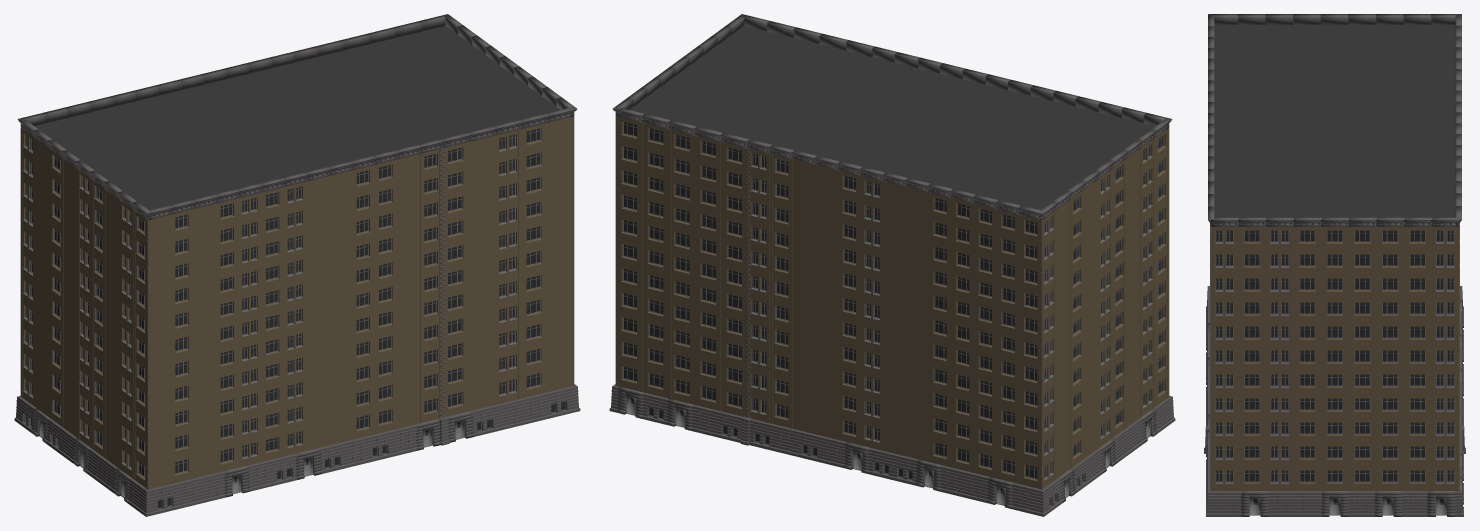
File: building04.fbx
3 renders of one model, left to right at view 1: azimuth 30°, elevation 25°; view 2: azimuth 150°, elevation 25°; view 3: azimuth 270°, elevation 25°, orthographic.
Parts seen in each view (by area): view 1: building_base; view 2: building_base; view 3: building_base.
Boxes of the visible parts, bbox=[...] form: building_base: bbox=[14, 14, 580, 516]; building_base: bbox=[609, 14, 1175, 516]; building_base: bbox=[1204, 14, 1465, 516].
Bounding box in the file's own units: 5571 × 3701 × 2966.
